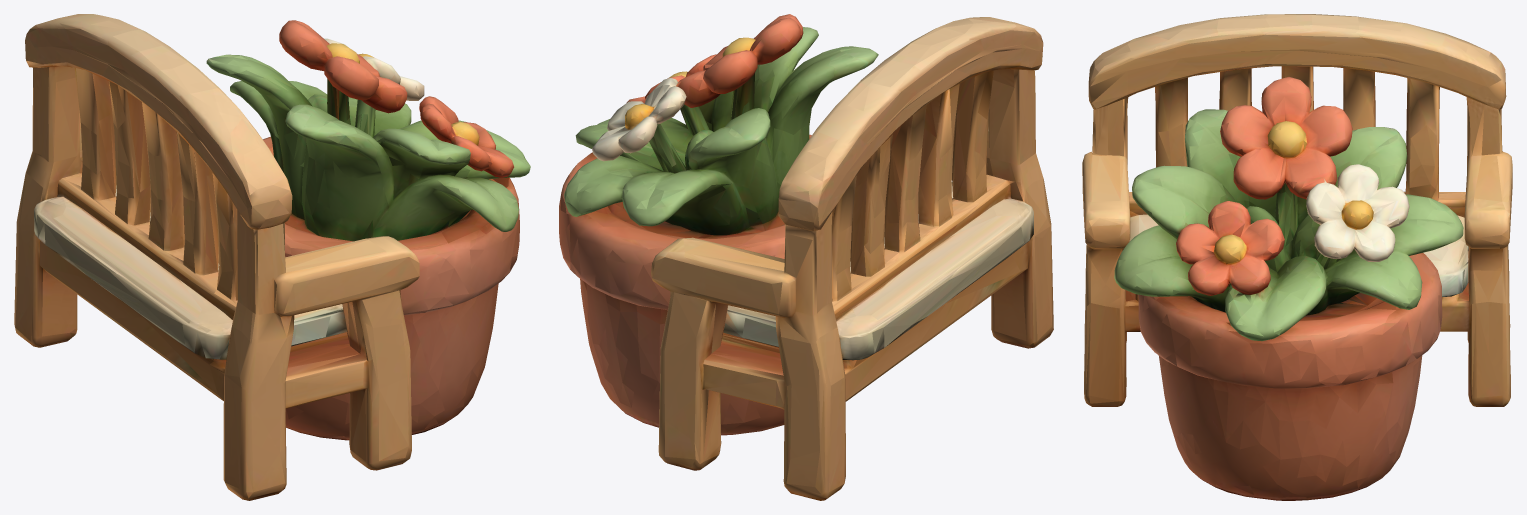
Rendered from F11-plaza-benches.glb.
The picture shows the model from 3 angles, left to right: view 1: azimuth 30°, elevation 25°; view 2: azimuth 150°, elevation 25°; view 3: azimuth 270°, elevation 25°; orthographic projection. The views are drawn at different scales.
Visible parts, largest first — view 1: F11-plaza-benches; view 2: F11-plaza-benches; view 3: F11-plaza-benches.
Boxes of the visible parts, x1,y1,x2,y2 form: F11-plaza-benches: (14, 14, 530, 500); F11-plaza-benches: (559, 14, 1053, 500); F11-plaza-benches: (1082, 14, 1512, 500).
Size of the model in its own units: 1.27 by 1.2 by 1.32.
1 material, 1 textured.
